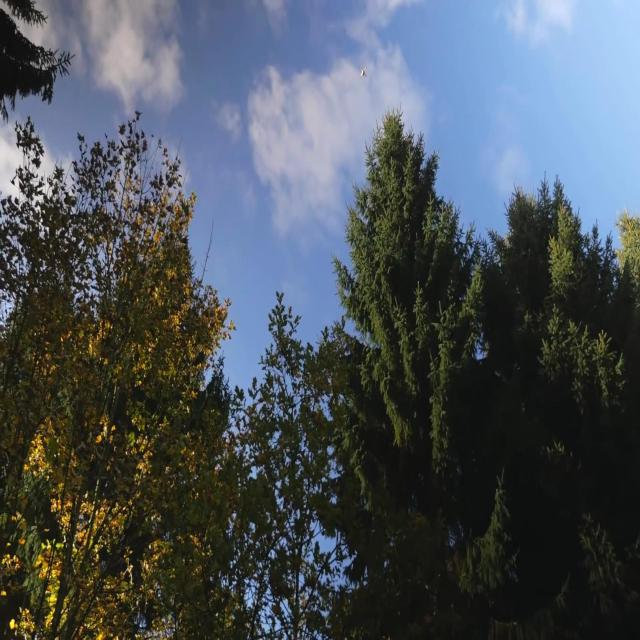drone: (358, 64, 368, 78)
